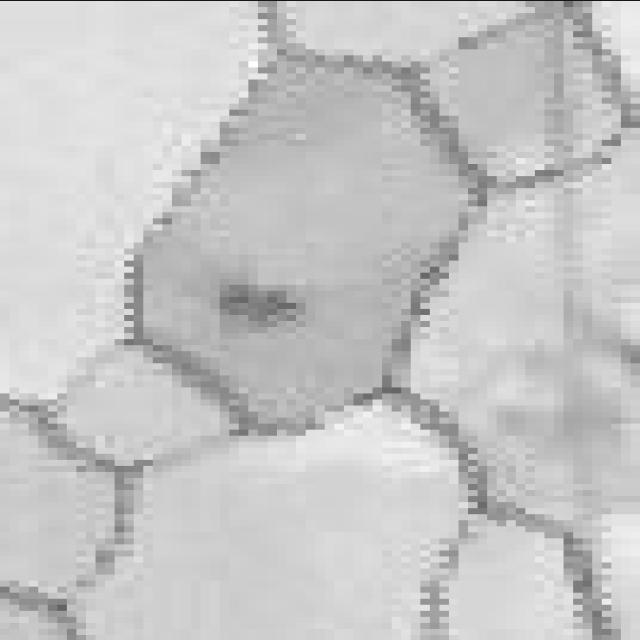good_void: (210, 282, 314, 333)
